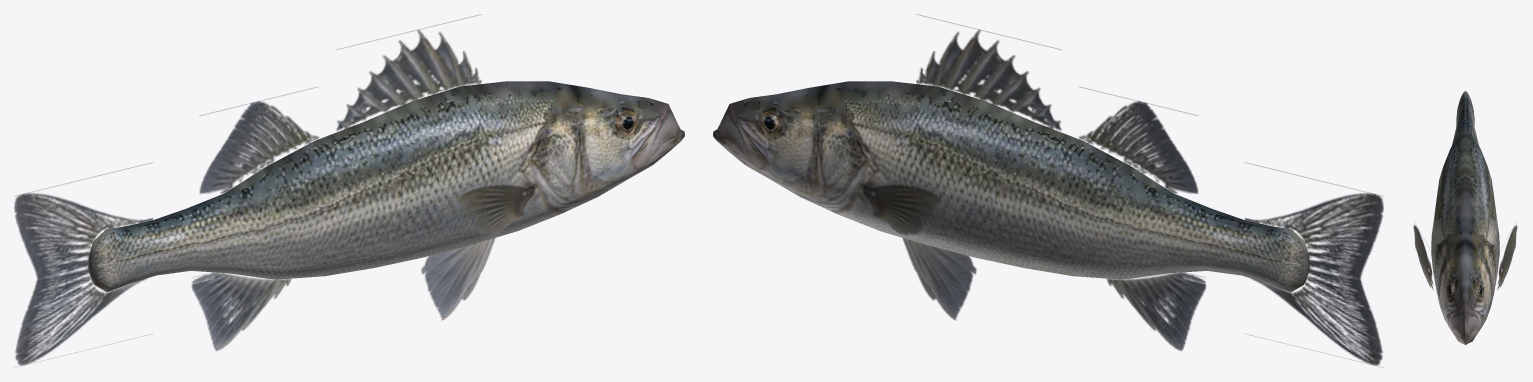
The model's file is suzuki_lo.glb.
3 renders of one model, left to right at view 1: azimuth 30°, elevation 25°; view 2: azimuth 150°, elevation 25°; view 3: azimuth 270°, elevation 25°, orthographic. The views are drawn at different scales.
Parts seen in each view (by area): view 1: suzuki_body; view 2: suzuki_body; view 3: suzuki_body.
Boxes of the visible parts, box(x1,y1,x2,y2) form: suzuki_body: box(14, 14, 684, 367); suzuki_body: box(713, 14, 1383, 367); suzuki_body: box(1413, 91, 1517, 344).
Size of the model in its own units: 0.6009 by 0.2542 by 0.1083.
1 material, 1 textured.
